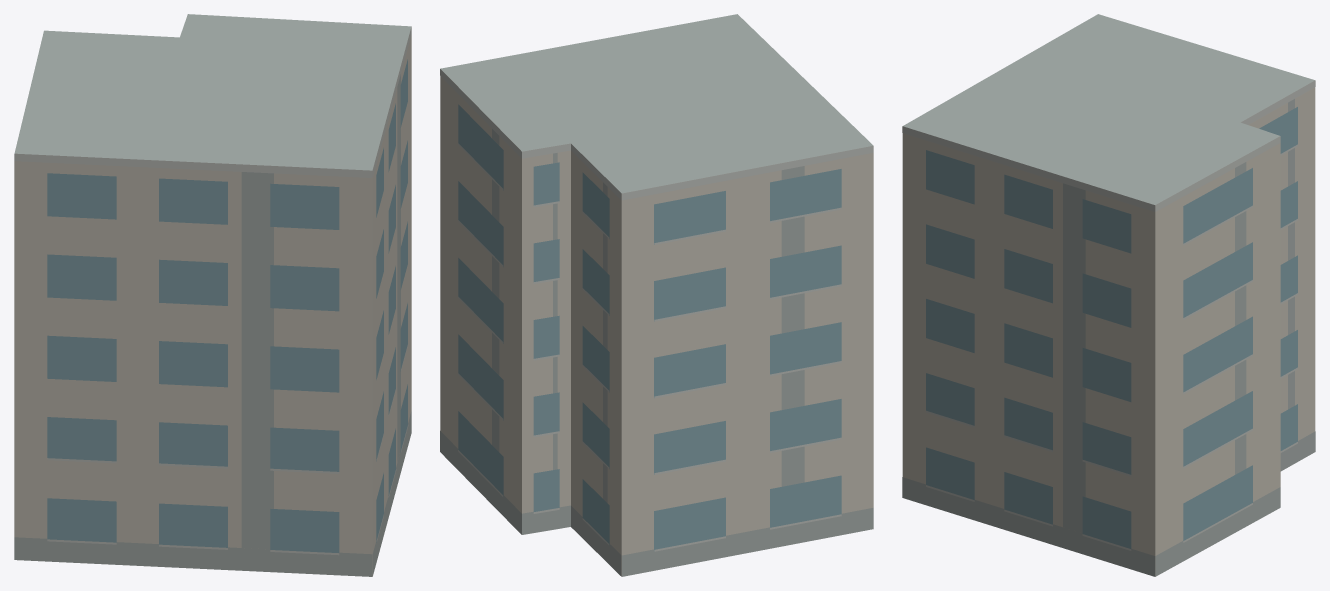
Rendered from survey-upis-32681129.glb.
3 views of the same model, side by side, from view 1: azimuth 30°, elevation 25°; view 2: azimuth 150°, elevation 25°; view 3: azimuth 270°, elevation 25° (orthographic). The views are drawn at different scales.
Visible parts, largest first — view 1: survey-upis-32681129.tmp; view 2: survey-upis-32681129.tmp; view 3: survey-upis-32681129.tmp.
Boxes of the visible parts, x1,y1,x2,y2 form: survey-upis-32681129.tmp: (14,14,411,576); survey-upis-32681129.tmp: (440,14,873,576); survey-upis-32681129.tmp: (902,14,1315,576).
Size of the model in its own units: 14.56 by 13.19 by 13.29.
